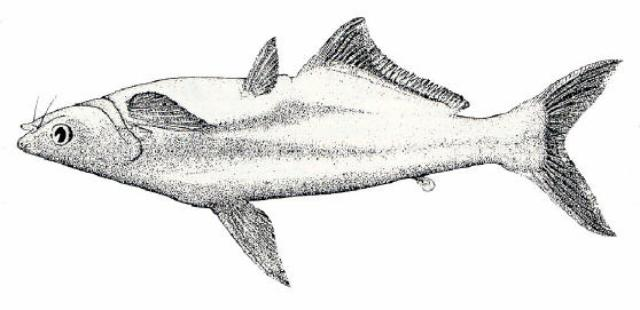Mulut: (12, 116, 60, 164)
Sirip Anal: (310, 10, 476, 116)
Sirip Dada: (119, 84, 221, 142)
Sirip Ekor: (534, 55, 630, 241)
Sirip Perut: (231, 29, 295, 102)
Sirip Punggung: (208, 196, 296, 292)
